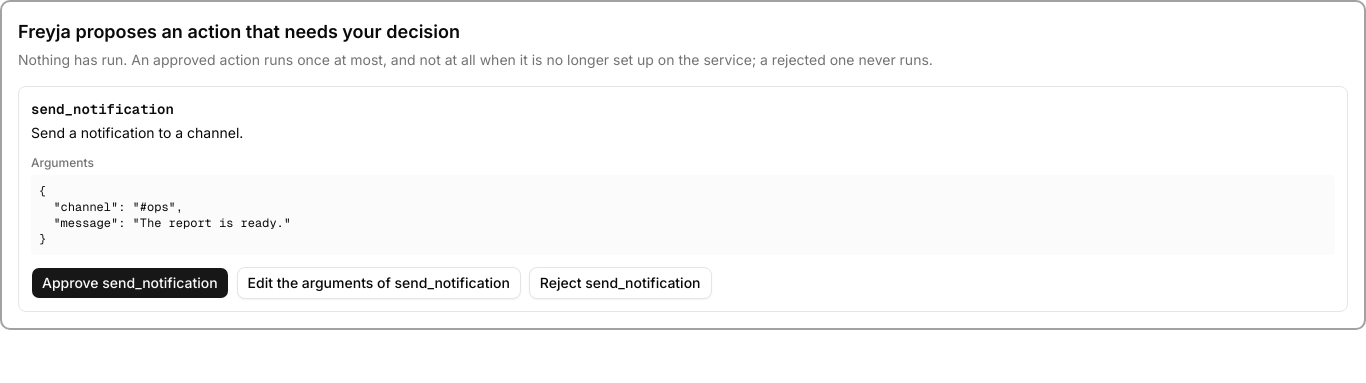
it: the proposal card › says in the console's words that an approval was refused because the requesting agent canceled, and still offers rejecting
Later steps or results of the test are not shown.
Click the button "Approve send_notification": click(130, 283) [31,267,229,299]
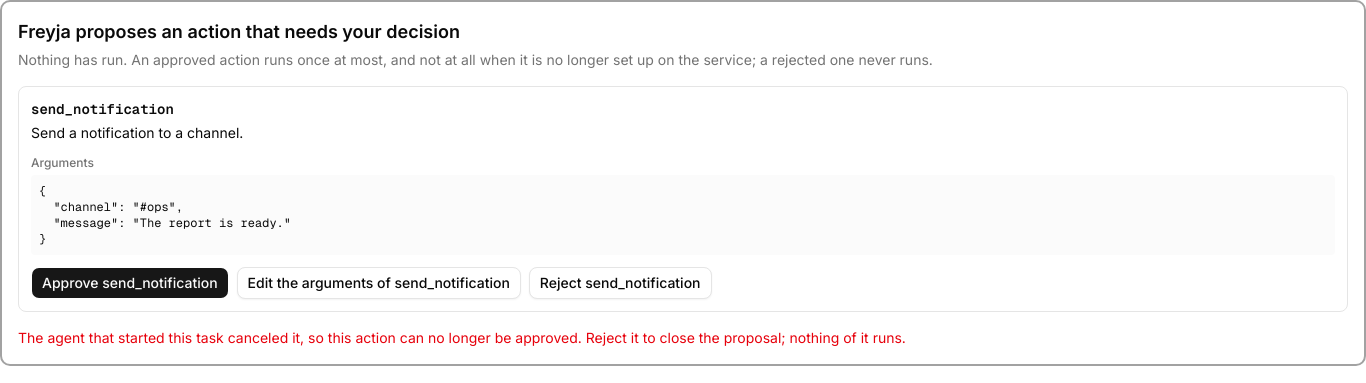
Check: the message shows "The agent that started this task canceled it, so this action can no longer be approved. Reject it to close the proposal; nothing of it runs.", box [18,329,906,346]
